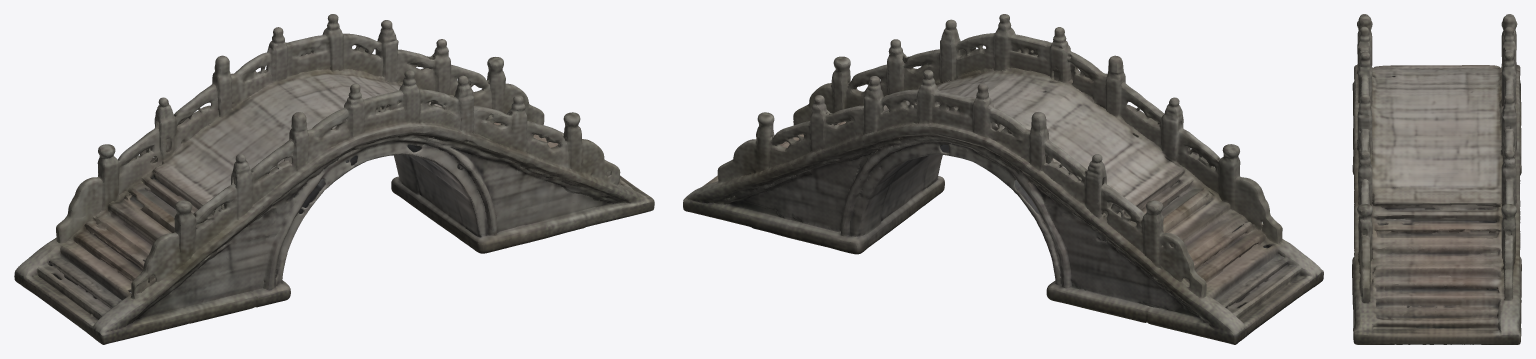
File: stone-arch-bridge.glb
3 views of the same model, side by side, from view 1: azimuth 30°, elevation 25°; view 2: azimuth 150°, elevation 25°; view 3: azimuth 270°, elevation 25° (orthographic). The views are drawn at different scales.
Visible parts, largest first — view 1: world; view 2: world; view 3: world.
Part boxes in pixels (x1,y1,x2,y2): world: [14, 14, 654, 344]; world: [683, 14, 1323, 344]; world: [1352, 14, 1521, 344].
Bounding box in the file's own units: 0.32 × 0.1085 × 0.0903.
Materials: 1 (1 with a texture image).
